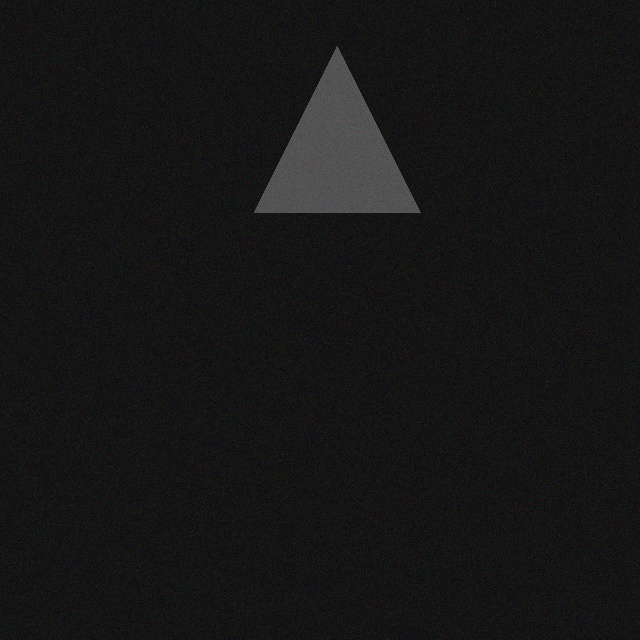triangle: (251, 52, 417, 218)
